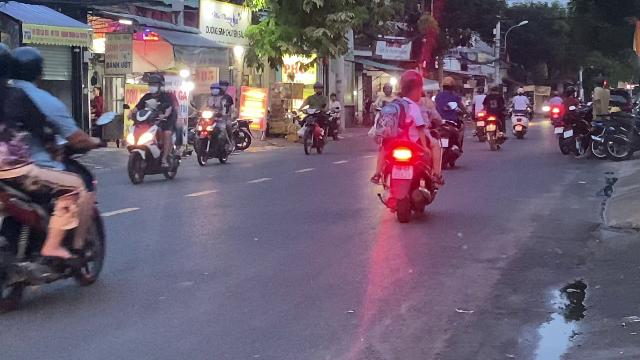helmet: (8, 45, 44, 85), (397, 68, 423, 86), (147, 74, 163, 92)
licenseplate: (392, 166, 412, 178)
motorcyclist: (0, 39, 111, 317), (367, 66, 443, 222), (124, 72, 184, 184)
nohelmet: (398, 78, 424, 102)
